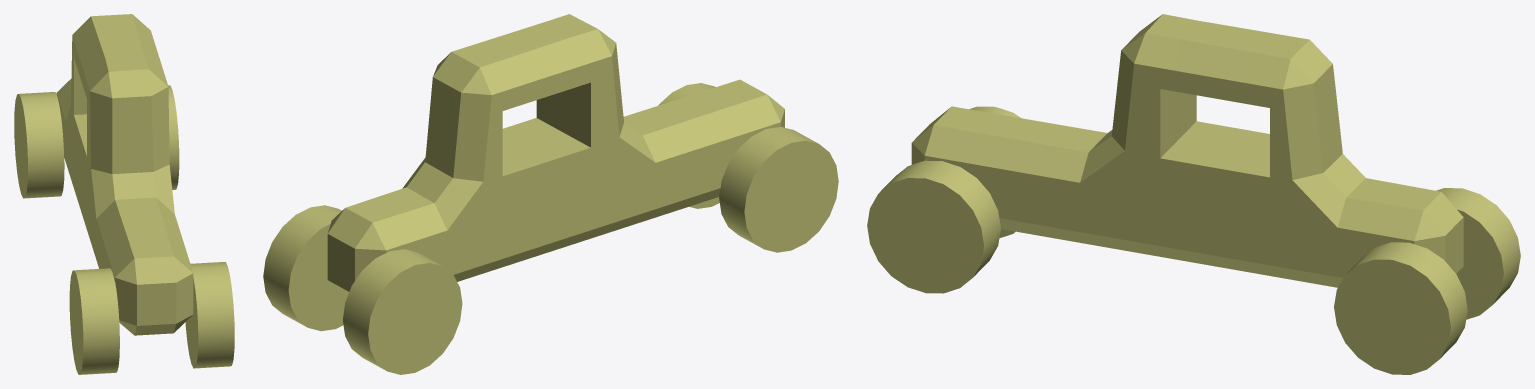
Rendered from Obj_vid_24_cotxe_joguina_low_poly.fbx.
3 renders of one model, left to right at view 1: azimuth 30°, elevation 25°; view 2: azimuth 150°, elevation 25°; view 3: azimuth 270°, elevation 25°, orthographic. The views are drawn at different scales.
Visible parts, largest first — view 1: Obj_vid_24_cotxe_joguina_low_poly; view 2: Obj_vid_24_cotxe_joguina_low_poly; view 3: Obj_vid_24_cotxe_joguina_low_poly.
Part boxes in pixels (bbox=[...]): Obj_vid_24_cotxe_joguina_low_poly: bbox=[14, 14, 234, 374]; Obj_vid_24_cotxe_joguina_low_poly: bbox=[263, 14, 838, 374]; Obj_vid_24_cotxe_joguina_low_poly: bbox=[867, 14, 1520, 374].
Bounding box in the file's own units: 0.233 × 0.1674 × 0.3712.
